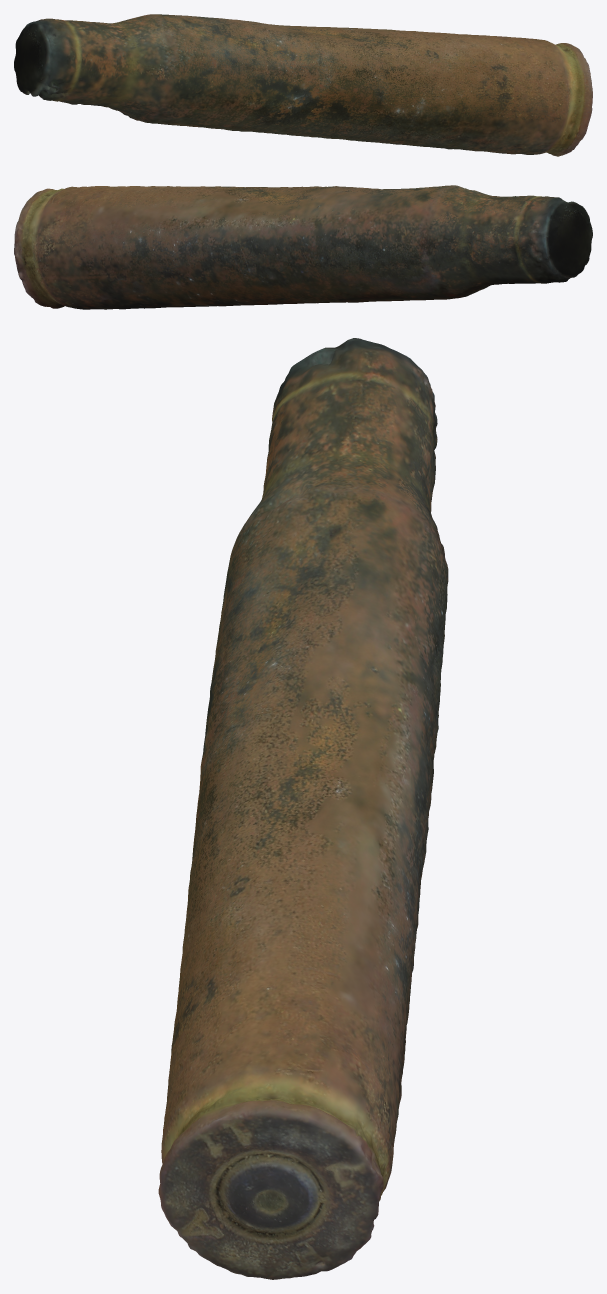
Rendered from kovan.glb.
3 views of the same model, one above another, from view 1: azimuth 30°, elevation 25°; view 2: azimuth 150°, elevation 25°; view 3: azimuth 270°, elevation 25° (orthographic). The views are drawn at different scales.
Parts seen in each view (by area): view 1: Object_2; view 2: Object_2; view 3: Object_2.
Boxes of the visible parts, left/top/right/bottom form: Object_2: left=14, top=14, right=592, bottom=156; Object_2: left=14, top=185, right=592, bottom=309; Object_2: left=158, top=338, right=448, bottom=1279.
Bounding box in the file's own units: 3.08 × 1.27 × 0.7194.
Materials: 1 (1 with a texture image).
